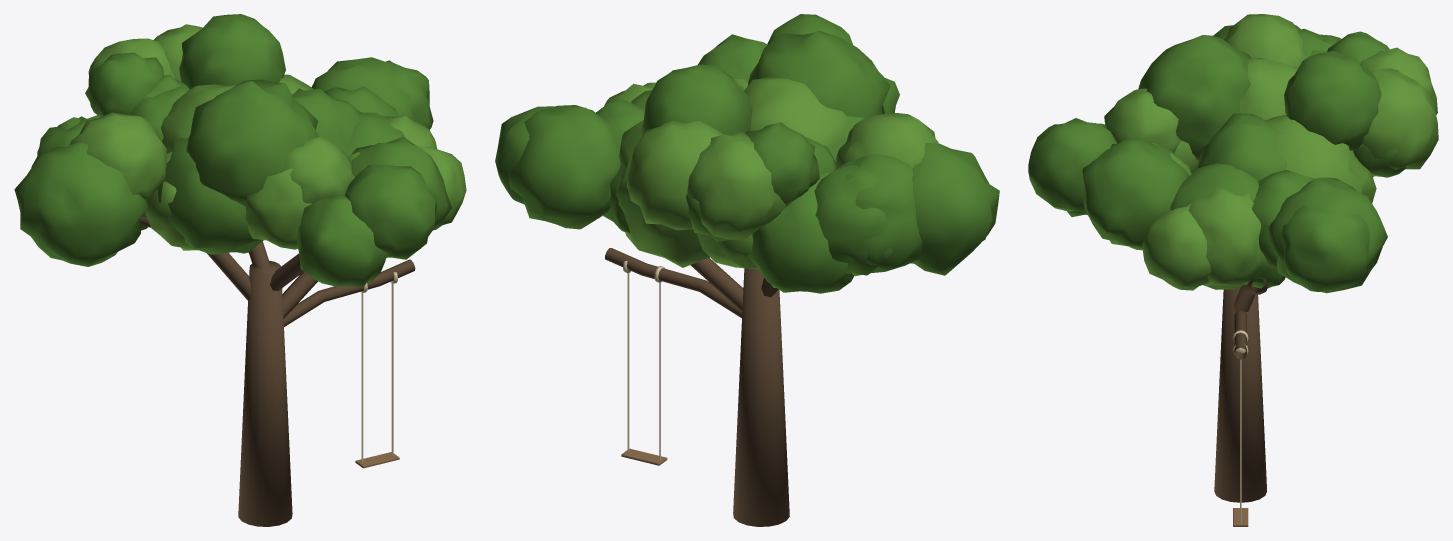
File: tree_swing.glb
3 views of the same model, side by side, from view 1: azimuth 30°, elevation 25°; view 2: azimuth 150°, elevation 25°; view 3: azimuth 270°, elevation 25° (orthographic). The views are drawn at different scales.
Visible parts, largest first — view 1: leaf16, trunk, leaf4, leaf23, leaf29, leaf26, leaf1, leaf18, leaf28, leaf27, leaf24, leaf11 (+17 smaller); view 2: trunk, leaf11, leaf16, leaf4, leaf30, leaf20, leaf33, leaf29, leaf17, leaf19, leaf3, leaf6 (+10 smaller); view 3: trunk, leaf4, leaf22, leaf29, leaf7, leaf33, leaf23, leaf9, leaf12, leaf11, leaf6, leaf2 (+12 smaller).
Boxes of the visible parts, left/top/right/bottom form: leaf16: left=14, top=142, right=147, bottom=266; trunk: left=238, top=260, right=292, bottom=526; leaf4: left=186, top=79, right=319, bottom=206; leaf23: left=345, top=164, right=436, bottom=259; leaf29: left=179, top=14, right=285, bottom=89; leaf26: left=296, top=194, right=387, bottom=286; leaf1: left=157, top=137, right=263, bottom=254; leaf18: left=69, top=112, right=166, bottom=199; leaf28: left=88, top=52, right=163, bottom=116; leaf27: left=245, top=168, right=311, bottom=249; leaf24: left=285, top=137, right=353, bottom=203; leaf11: left=311, top=57, right=415, bottom=120; trunk: left=733, top=268, right=789, bottom=526; leaf11: left=508, top=105, right=620, bottom=229; leaf16: left=910, top=142, right=999, bottom=275; leaf4: left=748, top=31, right=890, bottom=117; leaf30: left=687, top=131, right=785, bottom=239; leaf20: left=747, top=172, right=854, bottom=293; leaf33: left=627, top=120, right=723, bottom=230; leaf29: left=640, top=64, right=752, bottom=135; leaf17: left=834, top=154, right=922, bottom=276; leaf19: left=814, top=165, right=892, bottom=275; leaf3: left=744, top=77, right=848, bottom=161; leaf6: left=616, top=120, right=709, bottom=267; trunk: left=1214, top=287, right=1266, bottom=502; leaf4: left=1138, top=35, right=1251, bottom=160; leaf22: left=1082, top=139, right=1189, bottom=248; leaf29: left=1284, top=51, right=1381, bottom=150; leaf7: left=1282, top=205, right=1370, bottom=291; leaf33: left=1352, top=68, right=1438, bottom=176; leaf23: left=1028, top=118, right=1117, bottom=212; leaf9: left=1185, top=186, right=1262, bottom=286; leaf12: left=1142, top=204, right=1211, bottom=290; leaf11: left=1268, top=177, right=1387, bottom=293; leaf6: left=1266, top=115, right=1376, bottom=203; leaf2: left=1197, top=113, right=1287, bottom=181.
Size of the model in its own units: 10.12 by 10.14 by 8.54.
